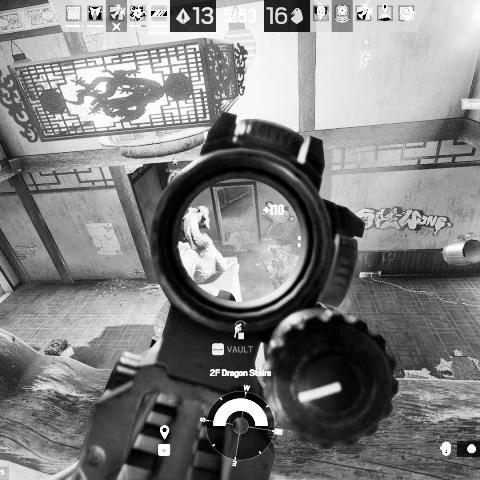Character: (259, 246, 291, 291)
Friend_label: (164, 157, 185, 174), (358, 38, 376, 54)
Head: (269, 247, 278, 256)
